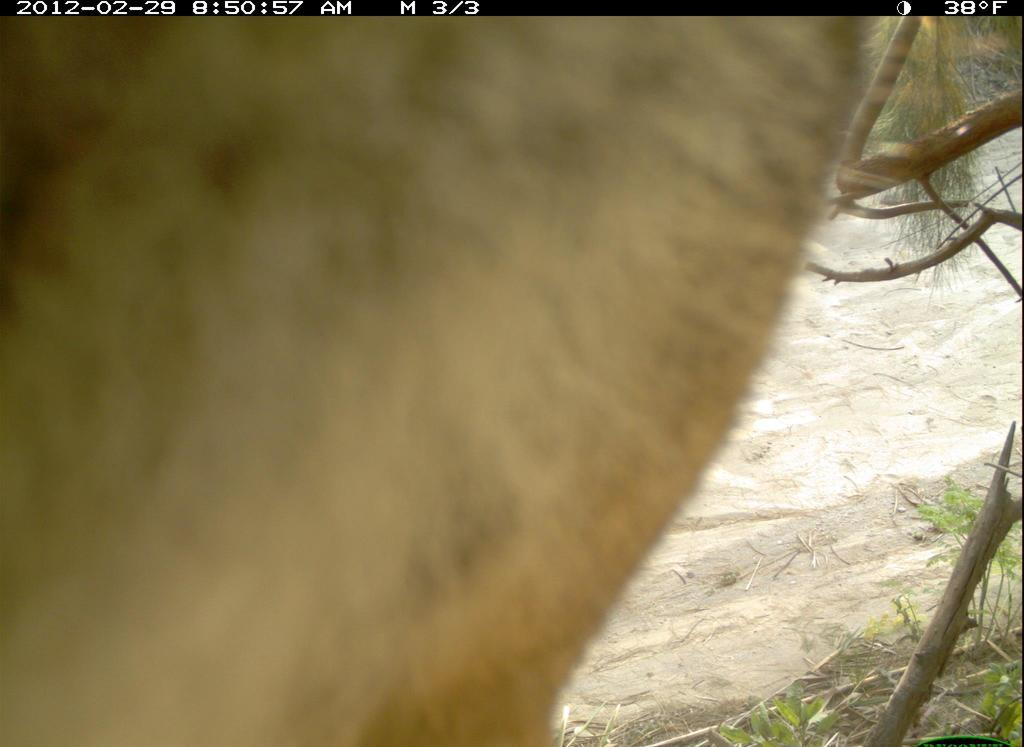coyote: (1, 16, 889, 747)
